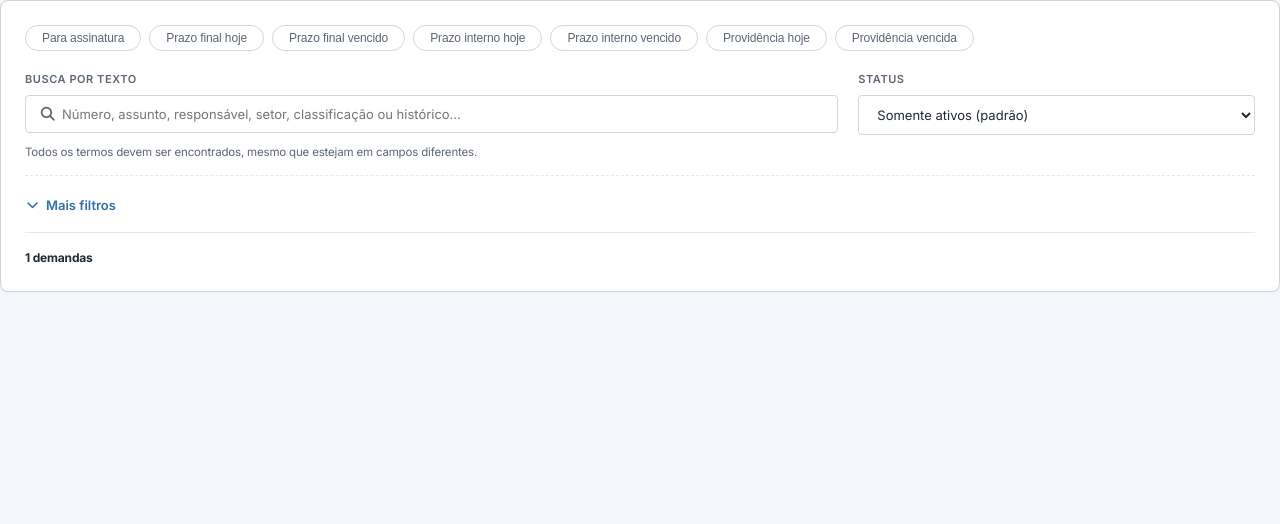
Test case: FilterPanel — busca avançada › exibe os filtros de período e a validação do intervalo
Click the button "Mais filtros": (70, 205) [17,193,124,217]
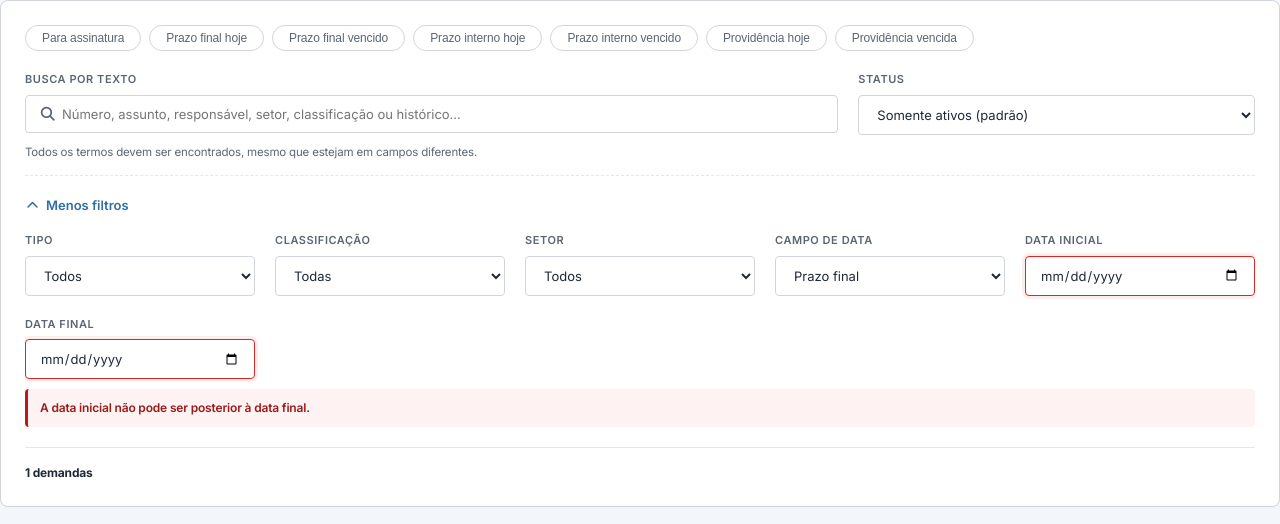
Check: the dropdown labelled "Campo de data" is shown, box [775,256,1005,296]
Check: the date field labelled "Data inicial" is shown, box [1025,256,1255,296]
Check: the date field labelled "Data final" is shown, box [25,339,255,379]
